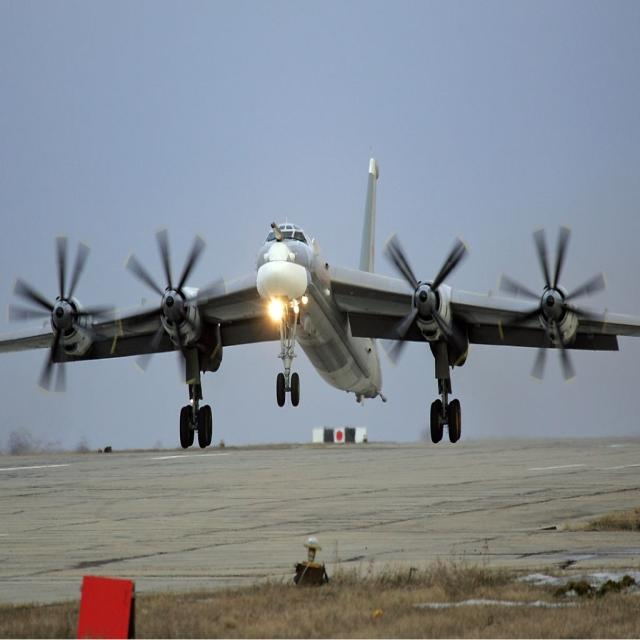MIL_Plane: (0, 145, 640, 448)
